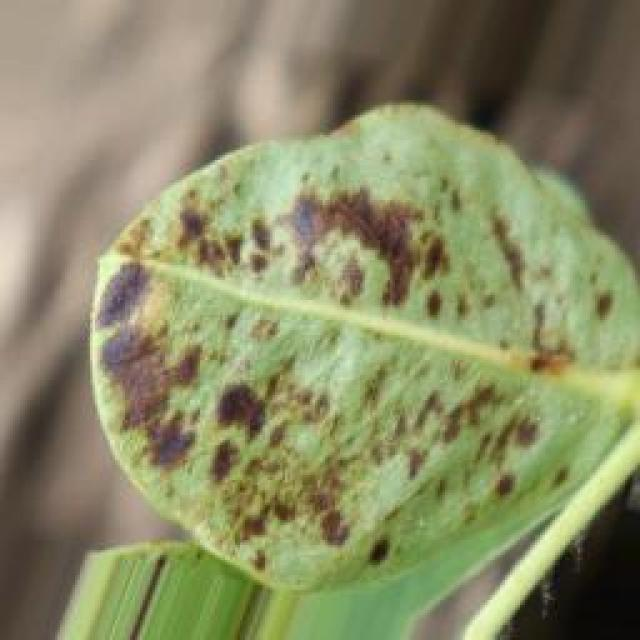Whitefly: (94, 109, 603, 614)
